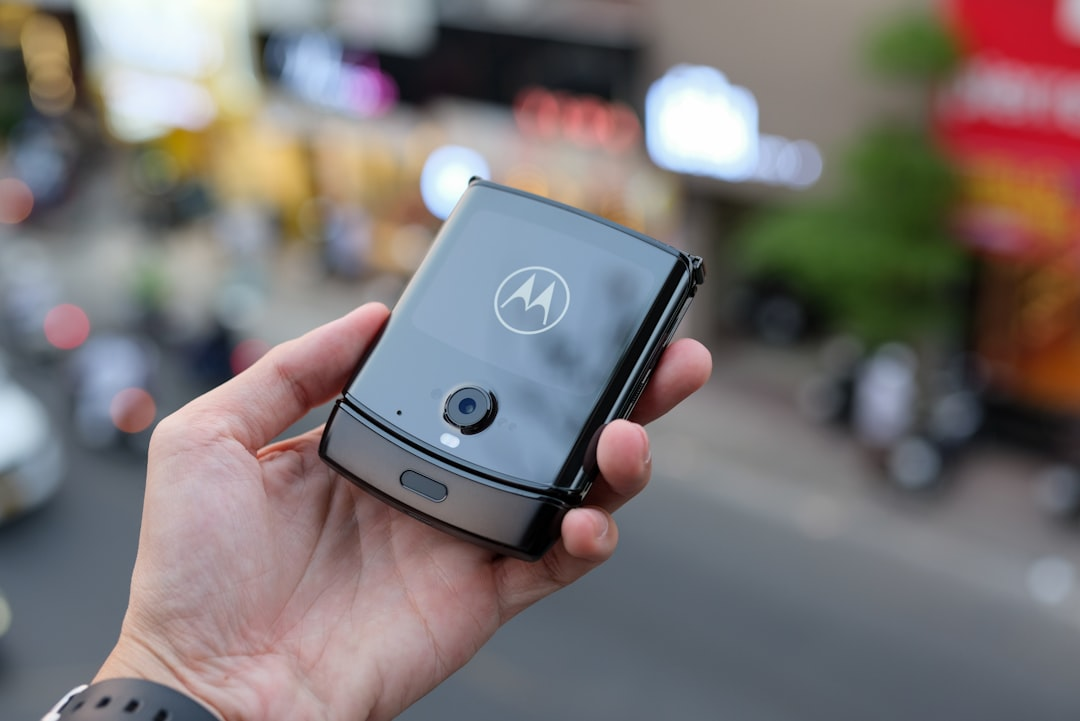phone: (315, 175, 705, 560)
